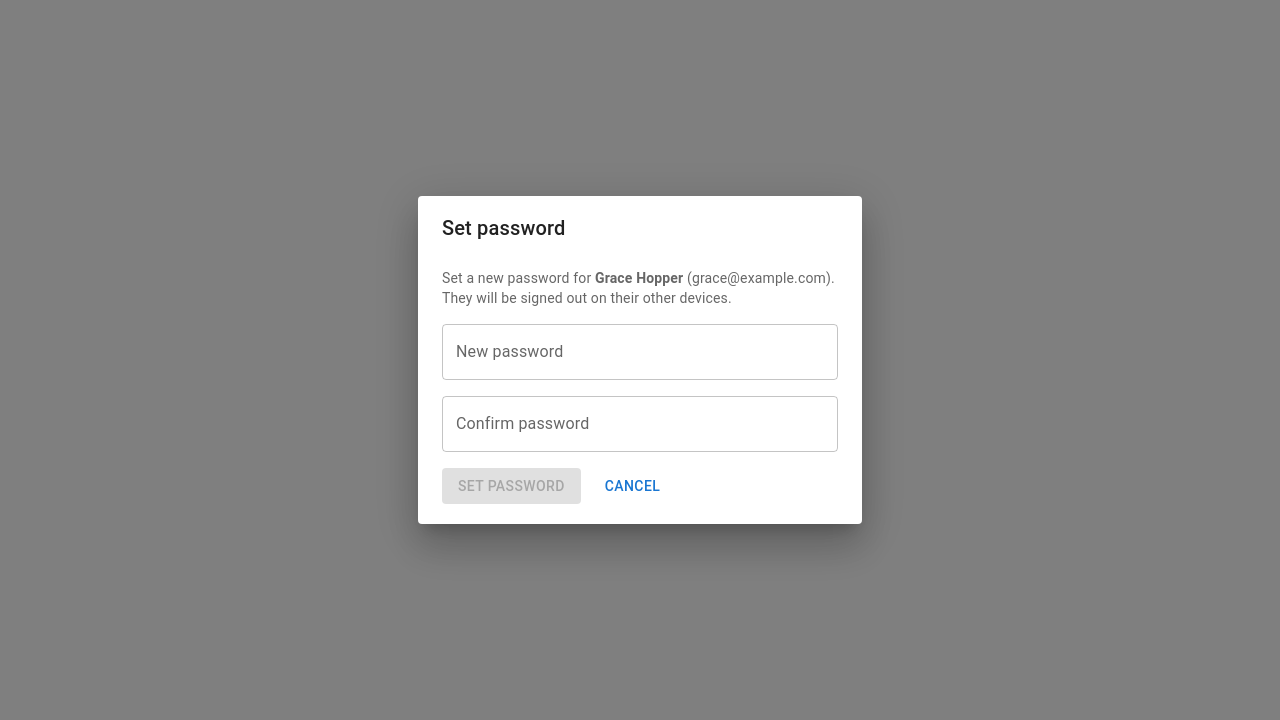
Test: SetPasswordDialog › blocks submit and warns when the two passwords do not match
This screenshot has width=1280, height=720.
Type "AdminSetPass1!" into the password field labelled "New password" at (640, 352), box [442, 324, 838, 380]
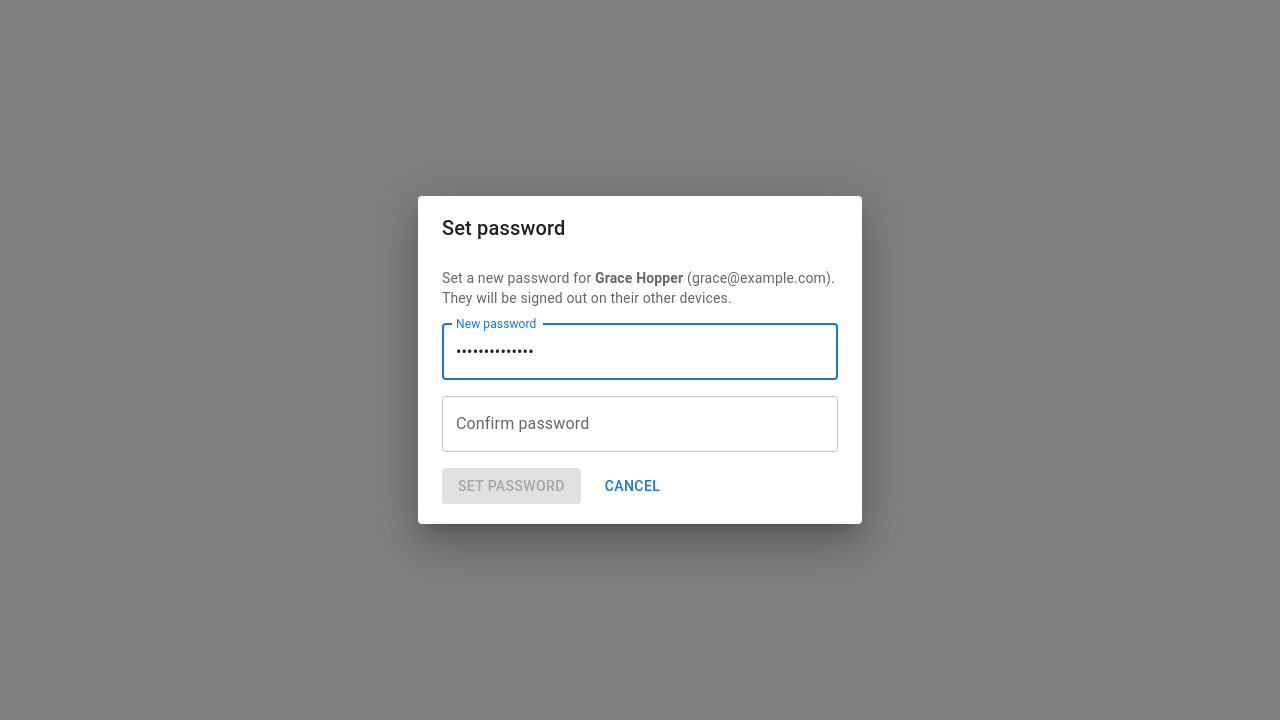
Type "Different1!" into the password field labelled "Confirm" at (640, 424), box [442, 396, 838, 452]
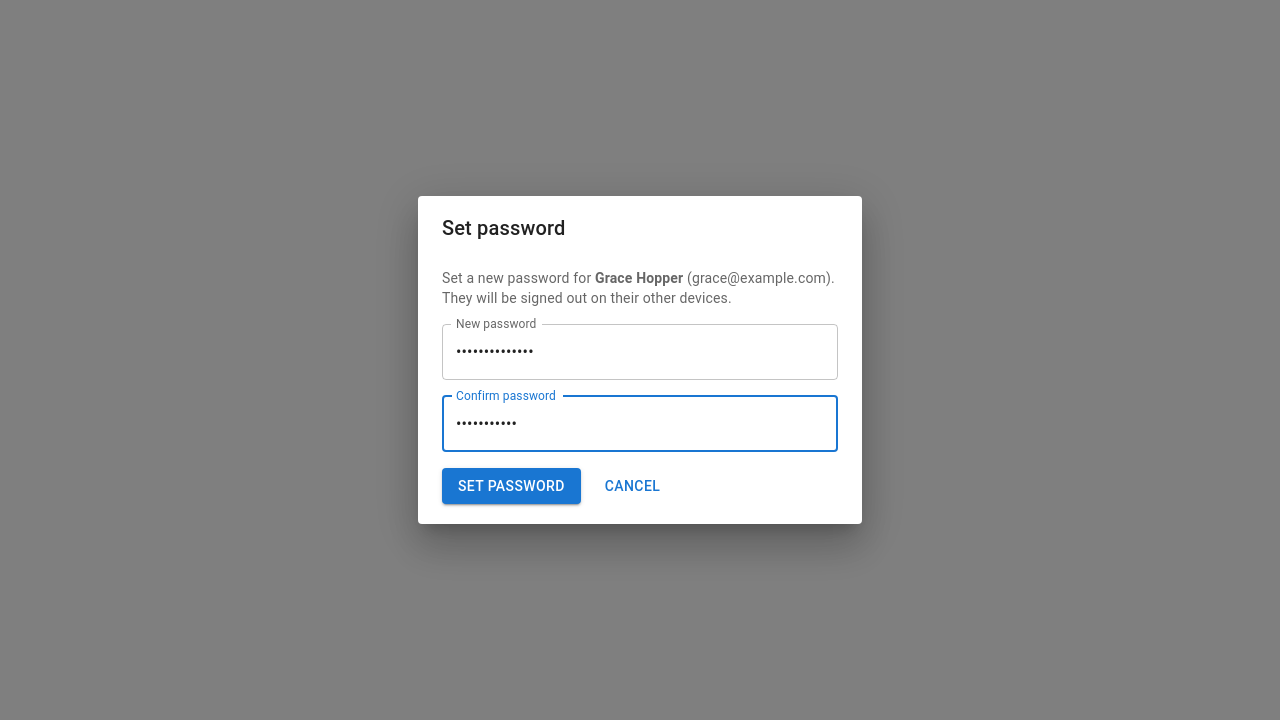
Click the button "Set password" at (511, 486), box [442, 468, 581, 504]
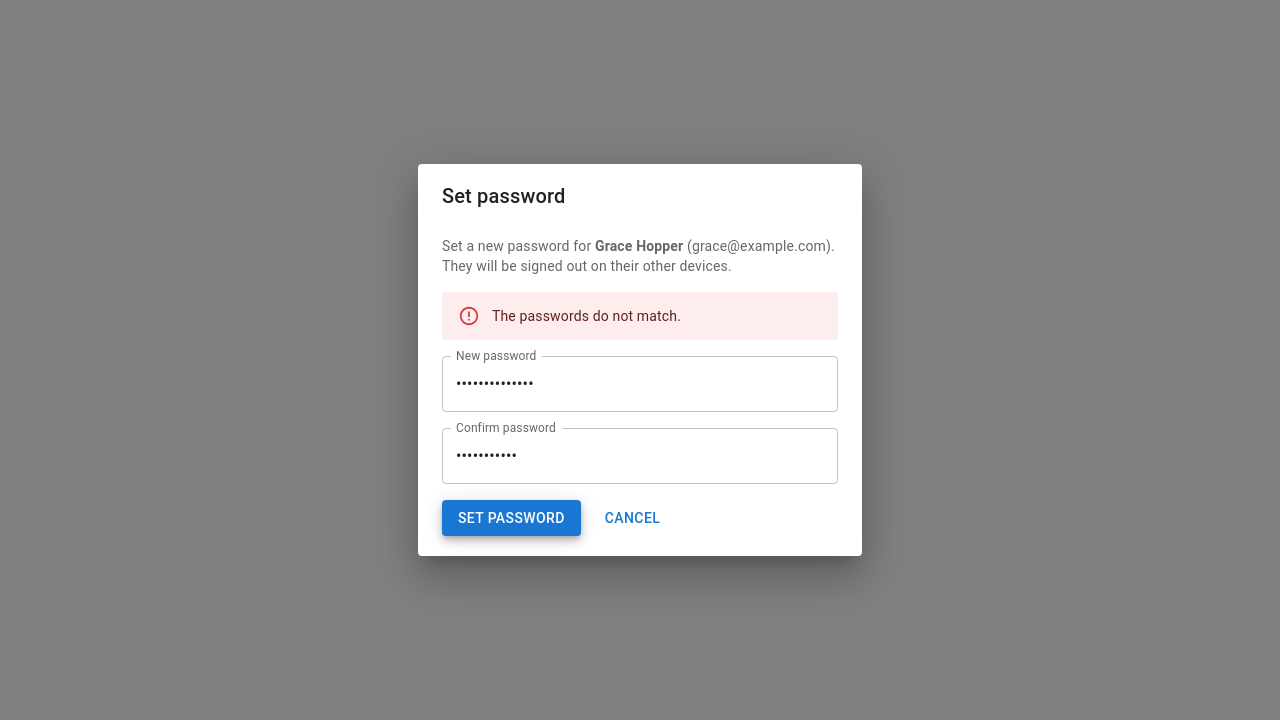
Now the text "The passwords do not match." is shown, box [492, 308, 681, 324]
